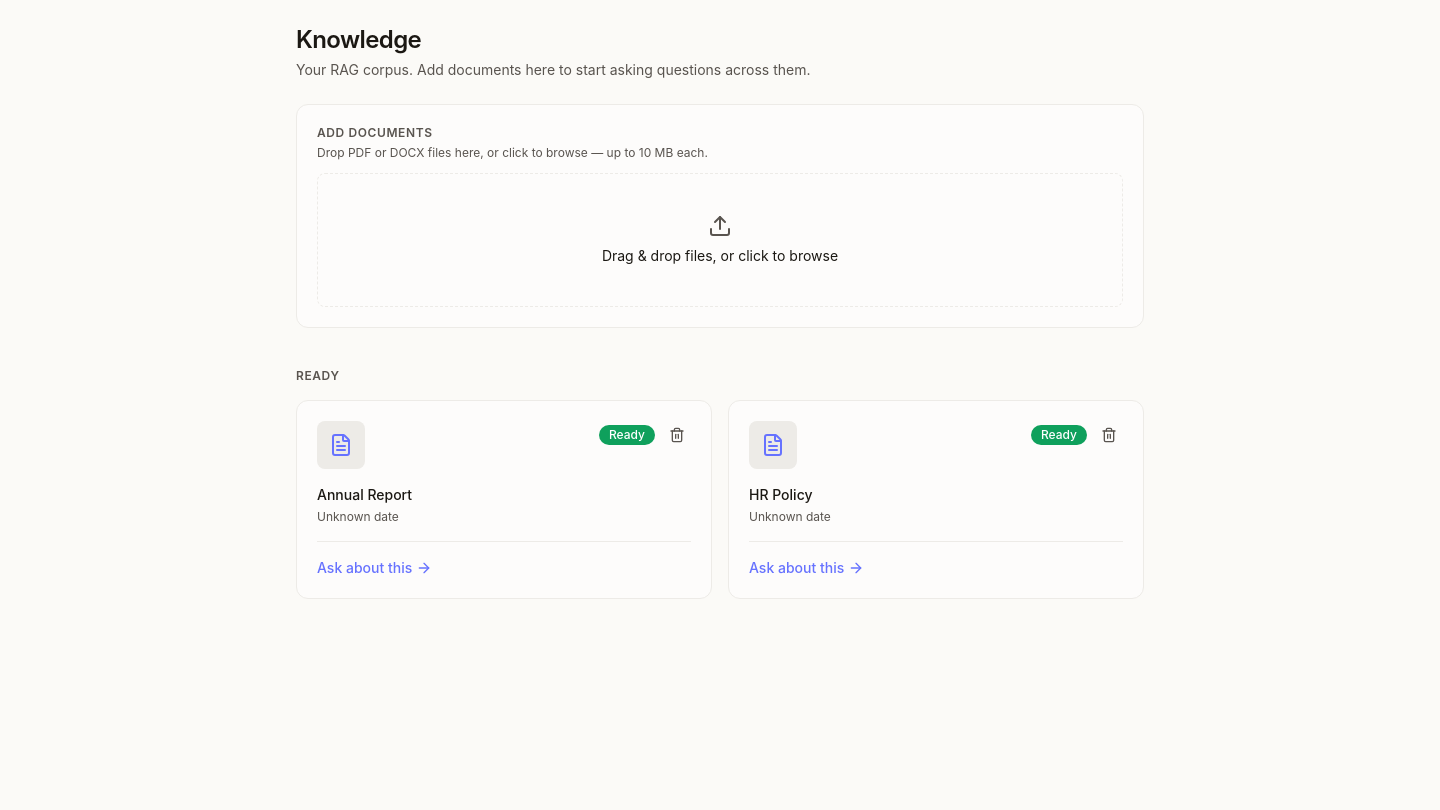
KnowledgePage (M8 / WEB-M8-8) › shows an error toast when delete fails
expect the link "Annual Report" is shown: met, box [317,486,412,503]
Click the button named "Delete knowledge document: Annual Report": (677, 435) [663,421,691,449]
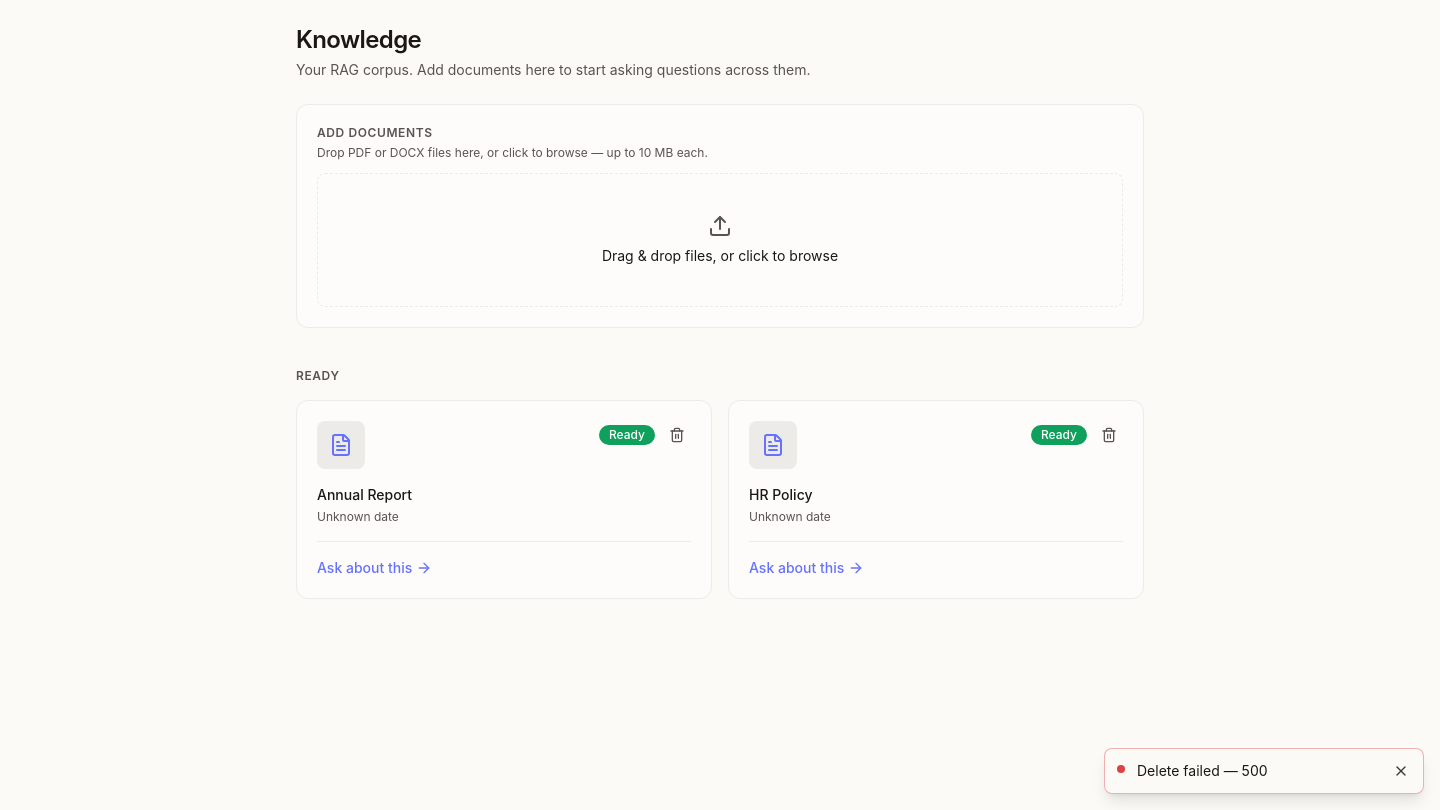
expect the text "Delete failed — 500" is shown: met, box [1137,762,1268,779]
